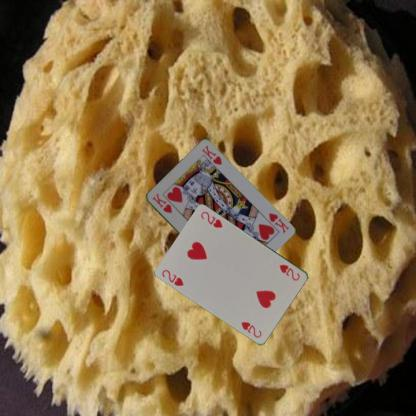2h: (160, 267, 186, 287), (276, 262, 301, 282)
Kh: (265, 210, 290, 235), (150, 191, 172, 214)
